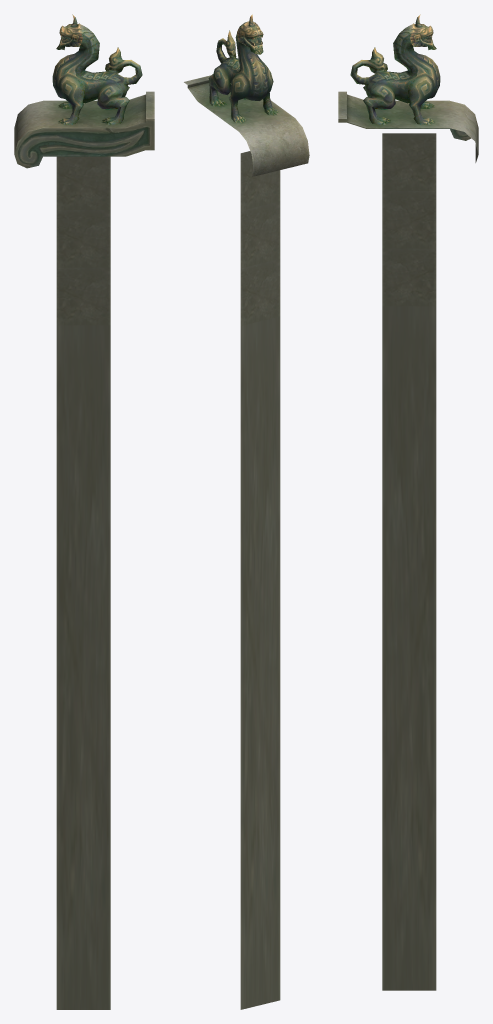
The model's file is Ma1_B_qingtongshou_1.FBX.
The picture shows the model from 3 angles, left to right: view 1: azimuth 90°, elevation 25°; view 2: azimuth 210°, elevation 25°; view 3: azimuth 270°, elevation 25°; orthographic projection.
Parts seen in each view (by area): view 1: Ma1_B_qingtongshou_1; view 2: Ma1_B_qingtongshou_1; view 3: Ma1_B_qingtongshou_1.
Boxes of the visible parts, x1,y1,x2,y2 form: Ma1_B_qingtongshou_1: [14, 14, 154, 1009]; Ma1_B_qingtongshou_1: [184, 14, 309, 1009]; Ma1_B_qingtongshou_1: [338, 14, 478, 990].
Bounding box in the file's own units: 441 × 7379 × 950.
